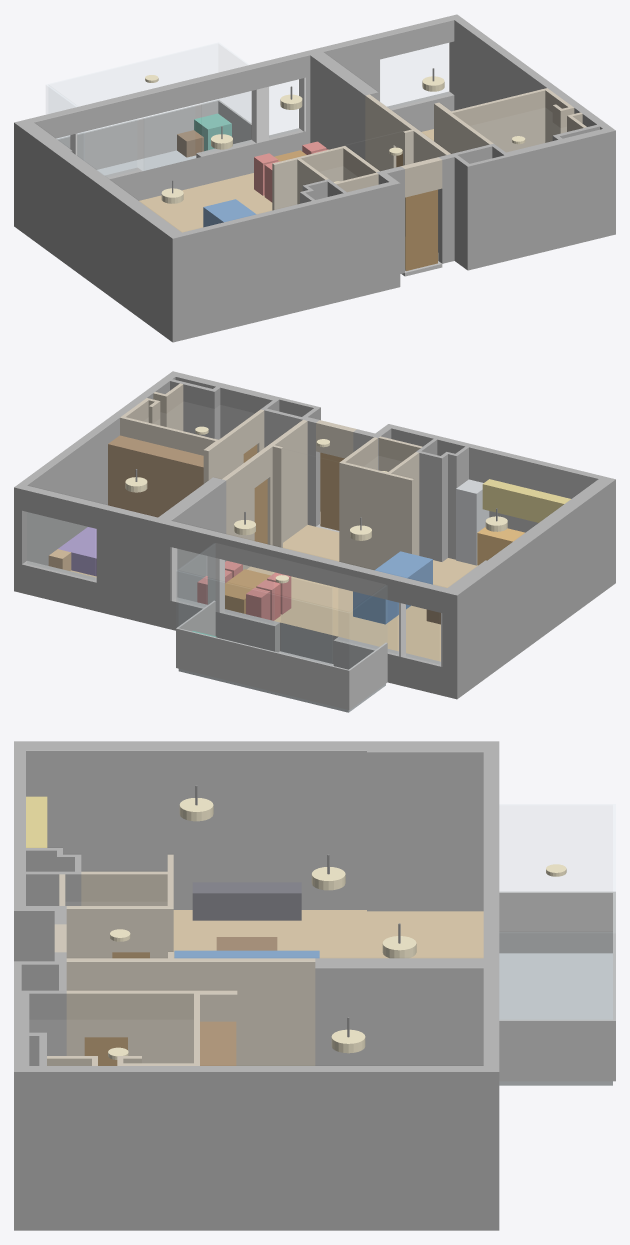
Rendered from apartment.glb.
The picture shows the model from 3 angles, top to bottom: view 1: azimuth 30°, elevation 25°; view 2: azimuth 150°, elevation 25°; view 3: azimuth 270°, elevation 25°; orthographic projection. The views are drawn at different scales.
Parts seen in each view (by area): view 1: Стена несущая 1, Стена несущая 2, Стена несущая 3, Надоконная часть 1, Перегородка 6, Ограждение балкона (парапет), Пол — Кухня-гостиная, Перегородка 3, Подоконная часть 1 1, Дверь D3 (входная), Подоконная часть 1 2, Надоконная часть 2 (+12 smaller); view 2: Стена несущая 1, Стена несущая 2, Стена несущая 3, Ограждение балкона (парапет), Перегородка 3, Надоконная часть 1, Пол — Кухня-гостиная, Подоконная часть 1 2, Перегородка 4, Перегородка 6, F14 Шкаф встроенный, Подоконная часть 1 1 (+25 smaller); view 3: Стена несущая 2, Стена несущая 1, Стена несущая 3, Ограждение балкона (парапет), Пол — Кухня-гостиная, Перегородка 7, Пол — Балкон, Перегородка 6, Перегородка 3, F4 ТВ-тумба, Перегородка 4, Надоконная часть 1 (+15 smaller).
Boxes of the visible parts, x1,y1,x2,y2 form: Стена несущая 1: [14, 119, 404, 342]; Стена несущая 2: [438, 14, 615, 270]; Стена несущая 3: [301, 34, 379, 159]; Надоконная часть 1: [29, 52, 305, 138]; Перегородка 6: [434, 88, 574, 153]; Ограждение балкона (парапет): [57, 99, 251, 169]; Пол — Кухня-гостиная: [139, 173, 272, 232]; Перегородка 3: [272, 146, 351, 210]; Подоконная часть 1 1: [196, 128, 305, 185]; Дверь D3 (входная): [405, 189, 437, 270]; Подоконная часть 1 2: [104, 157, 201, 200]; Надоконная часть 2: [375, 16, 454, 59]; Стена несущая 1: [353, 424, 615, 699]; Стена несущая 2: [14, 371, 320, 592]; Стена несущая 3: [96, 477, 226, 629]; Ограждение балкона (парапет): [176, 600, 387, 710]; Перегородка 3: [339, 452, 419, 570]; Надоконная часть 1: [170, 522, 446, 612]; Пол — Кухня-гостиная: [247, 558, 477, 661]; Подоконная часть 1 2: [280, 622, 442, 695]; Перегородка 4: [266, 420, 307, 547]; Перегородка 6: [120, 398, 243, 483]; F14 Шкаф встроенный: [108, 435, 171, 517]; Подоконная часть 1 1: [170, 597, 279, 652]; Стена несущая 2: [14, 952, 499, 1230]; Стена несущая 1: [14, 741, 499, 961]; Стена несущая 3: [315, 955, 499, 1065]; Ограждение балкона (парапет): [499, 891, 615, 1081]; Пол — Кухня-гостиная: [173, 910, 483, 958]; Перегородка 7: [228, 958, 315, 1065]; Пол — Балкон: [499, 953, 612, 1085]; Перегородка 6: [117, 990, 237, 1065]; Перегородка 3: [81, 854, 173, 958]; F4 ТВ-тумба: [192, 882, 301, 920]; Перегородка 4: [66, 952, 180, 1055]; Надоконная часть 1: [483, 752, 499, 955].
Bounding box in the file's own units: 12.92 × 3.01 × 9.95.
